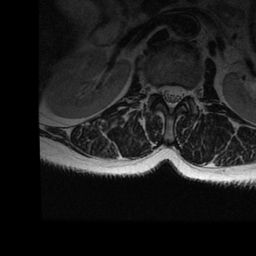CCS_normal: (167, 77, 175, 121)
LFS_stenosis: (185, 78, 192, 105)
LLS_normal: (176, 77, 185, 108)
RFS_normal: (151, 76, 159, 102)
RLS_normal: (159, 76, 168, 109)
